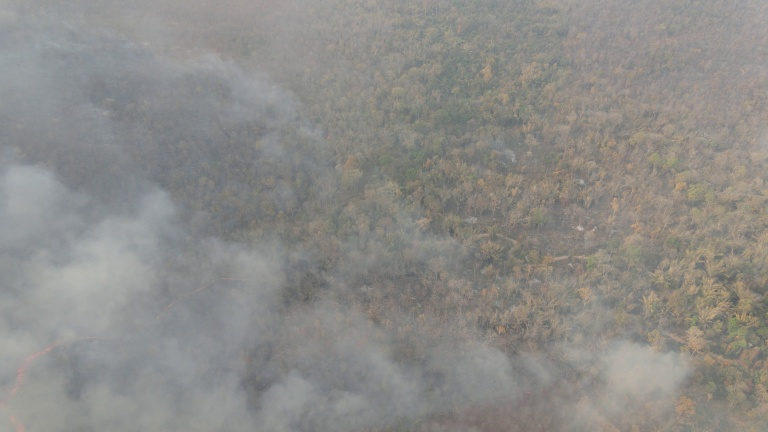fire: (3, 327, 88, 432)
smoke: (1, 205, 291, 432), (549, 338, 686, 425), (216, 60, 326, 149)
